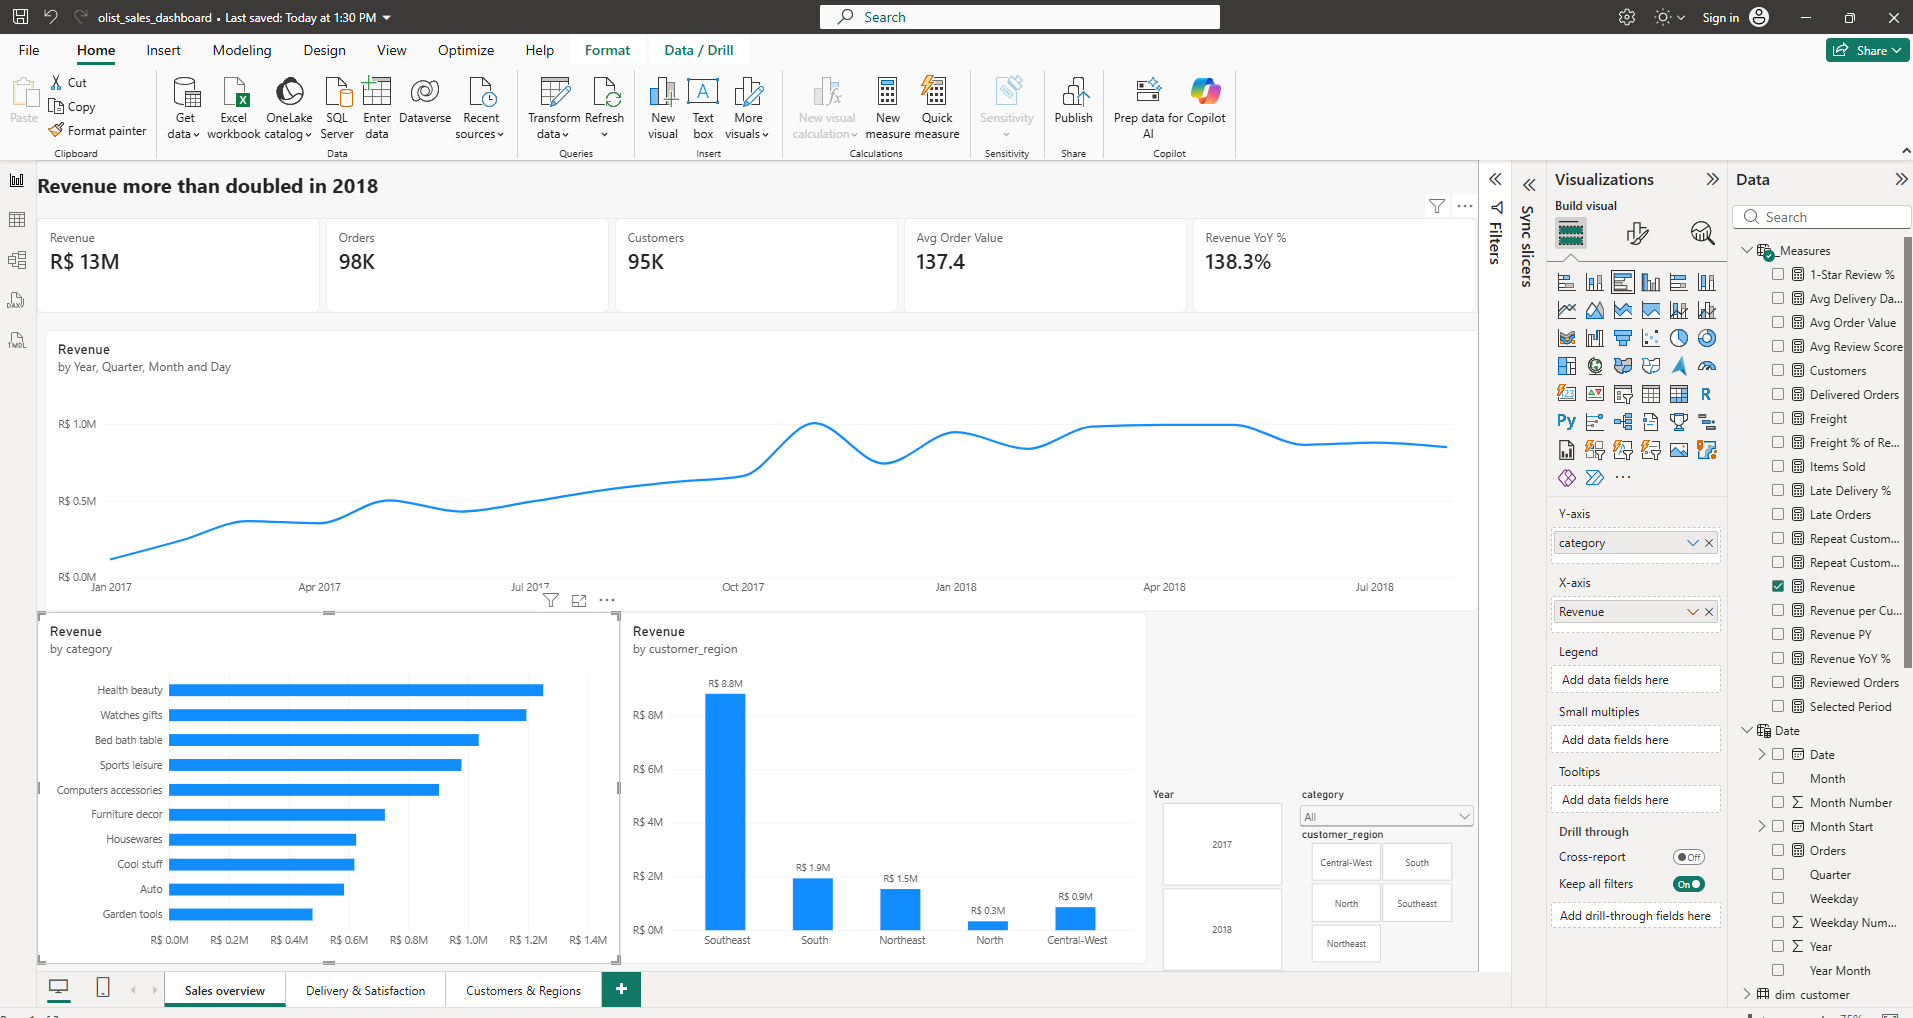

The page's visual inventory and layout, read from the dashboard file:
{"tool":"powerbi","page":{"name":"Sales overview","canvas":[1920,1080],"ordinal":0},"visuals":[{"type":"cardVisual","fields":{"Data":["_Measures.Revenue","_Measures.Orders","_Measures.Customers","_Measures.Avg Order Value","cost.Revenue YoY %"]},"box":[0,0,1797.4,103.6],"z":0},{"type":"textbox","box":[0,192,1797,150],"z":1},{"type":"textbox","box":[0,182.2,1796.9,85.1],"z":2},{"type":"lineChart","fields":{"Category":["Date.Month Start.Variation.Date Hierarchy.Year","Date.Month Start.Variation.Date Hierarchy.Quarter","Date.Month Start.Variation.Date Hierarchy.Month","Date.Month Start.Variation.Date Hierarchy.Day"],"Y":["cost.Revenue"]},"box":[10.6,224.8,1910,425.6],"z":3},{"type":"clusteredBarChart","fields":{"Category":["dim_product.category"],"Y":["cost.Revenue"]},"box":[0,708.9,700.9,360.4],"z":4},{"type":"clusteredColumnChart","fields":{"Category":["dim_customer.customer_region"],"Y":["cost.Revenue"]},"box":[708.9,708.9,513.4,360.4],"z":5},{"type":"slicer","fields":{"Values":["Date.Year Month"]},"box":[1222.3,708.9,331.2,360.4],"z":6},{"type":"slicer","fields":{"Values":["dim_customer.customer_region"]},"box":[1553.5,891.1,351.1,178.2],"z":7},{"type":"slicer","fields":{"Values":["dim_product.category"]},"box":[1553.5,708.9,367.1,182.2],"z":8}]}

Visuals, with their boxes on the page's 1920x1080 design canvas (x1, y1, x2, y2). These are canvas units, not pixel positions in the 1913x1018 screenshot, which may show the page scaled, cropped or inside an application window:
cardVisual - _Measures.Revenue x _Measures.Orders: region(0, 0, 1797, 104)
textbox: region(0, 192, 1797, 342)
textbox: region(0, 182, 1797, 267)
lineChart - Date.Month Start.Variation.Date Hierarchy.Year x Date.Month Start.Variation.Date Hierarchy.Quarter: region(11, 225, 1921, 650)
clusteredBarChart - dim_product.category x cost.Revenue: region(0, 709, 701, 1069)
clusteredColumnChart - dim_customer.customer_region x cost.Revenue: region(709, 709, 1222, 1069)
slicer - Date.Year Month: region(1222, 709, 1554, 1069)
slicer - dim_customer.customer_region: region(1554, 891, 1905, 1069)
slicer - dim_product.category: region(1554, 709, 1921, 891)
